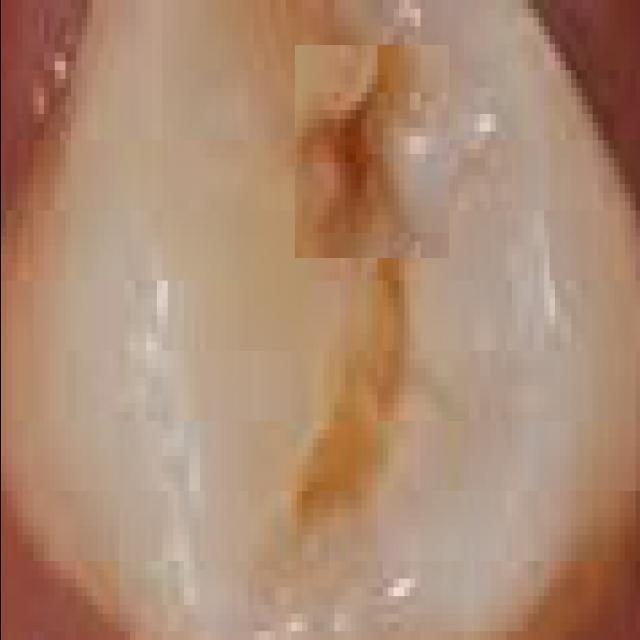decay: (294, 45, 448, 258)
